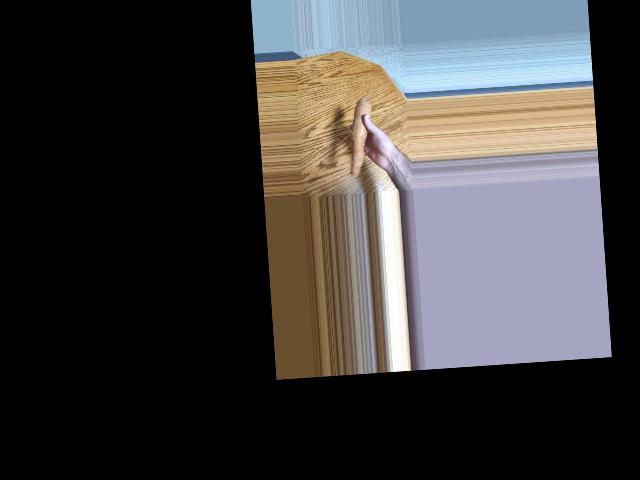sweet_potato: (349, 99, 369, 176)
